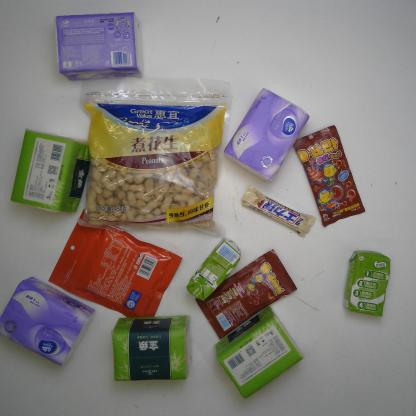Candy: (194, 244, 299, 340), (289, 124, 373, 230)
Chocolate: (238, 187, 318, 240)
Dried Food: (83, 84, 232, 233)
Dried Fruit: (40, 210, 186, 325)
Milk: (184, 234, 245, 303), (341, 249, 393, 319)
Tissue: (0, 273, 99, 369), (213, 304, 306, 402), (222, 83, 312, 183), (9, 124, 89, 221), (50, 7, 140, 78), (106, 310, 192, 384)
